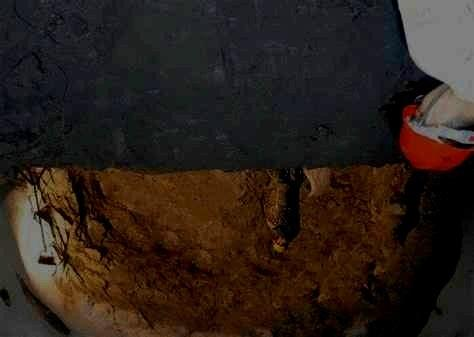helmet: (399, 79, 474, 170), (272, 236, 289, 254)
